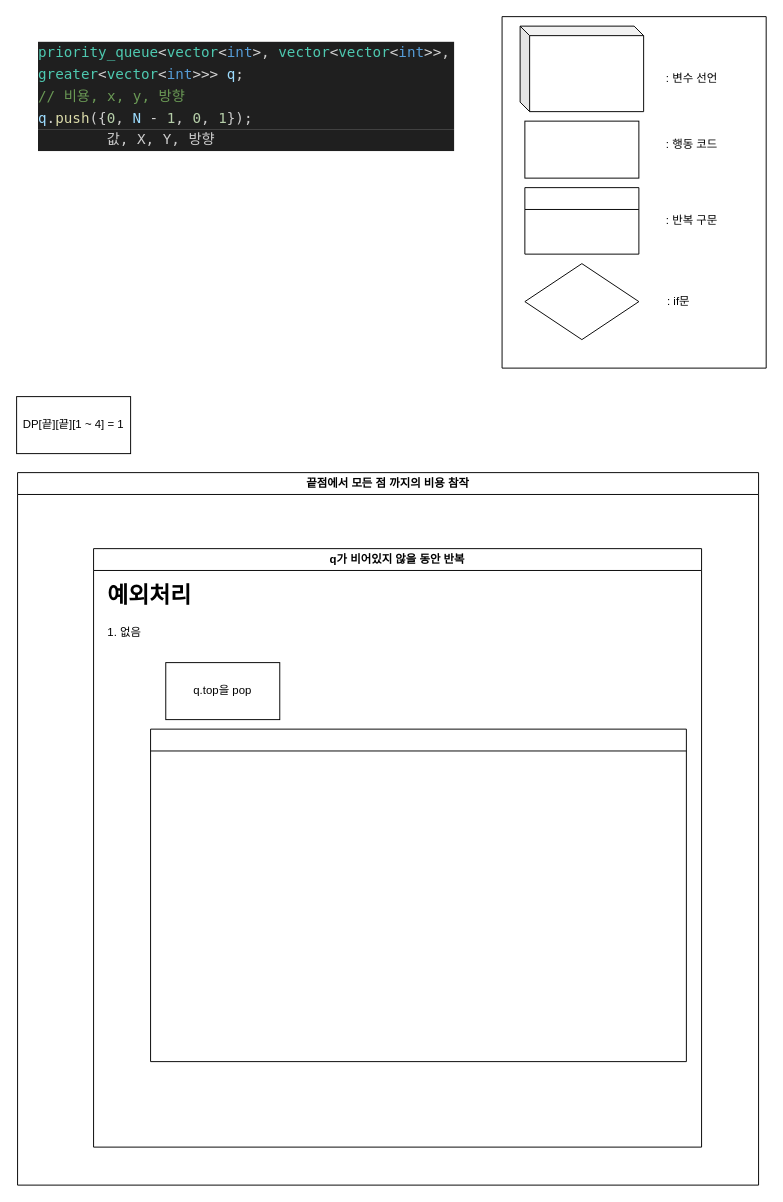
Some shapes in this 783 by 1202 pixel diagram are drawn without their labels. The box of each missing label's shape, as (x1, y1, x2, y2) in pixels:
3 액션에 대한 행동 -> DP 채우기: (150, 728, 686, 1062)
~ 동안: (524, 187, 639, 254)
